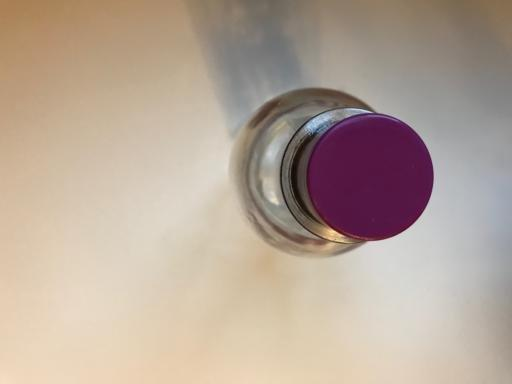botolkaca: (230, 88, 436, 258)
